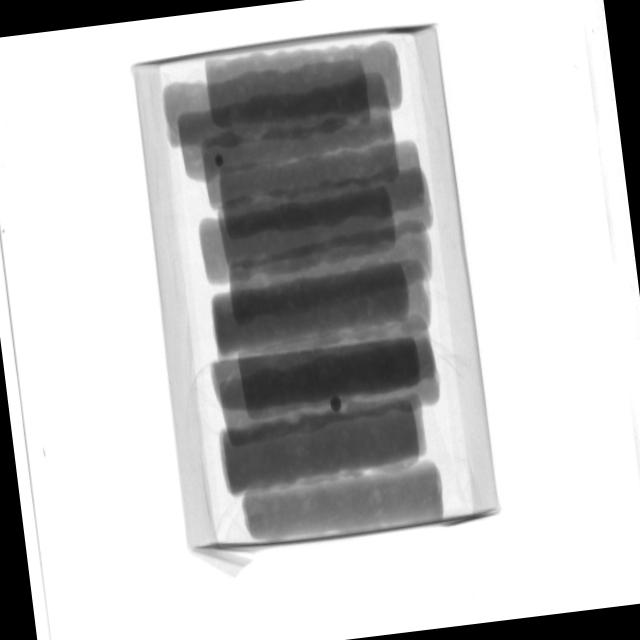ym: (330, 397, 344, 415), (216, 155, 226, 166)
